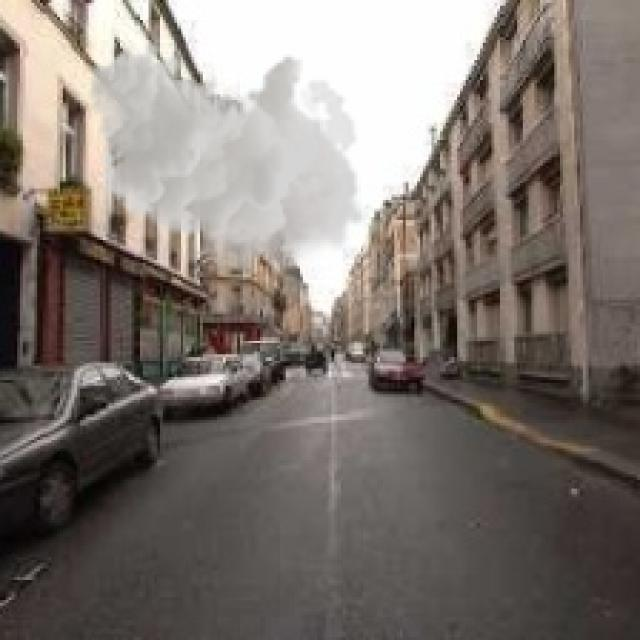Smoke: (88, 40, 366, 283)
